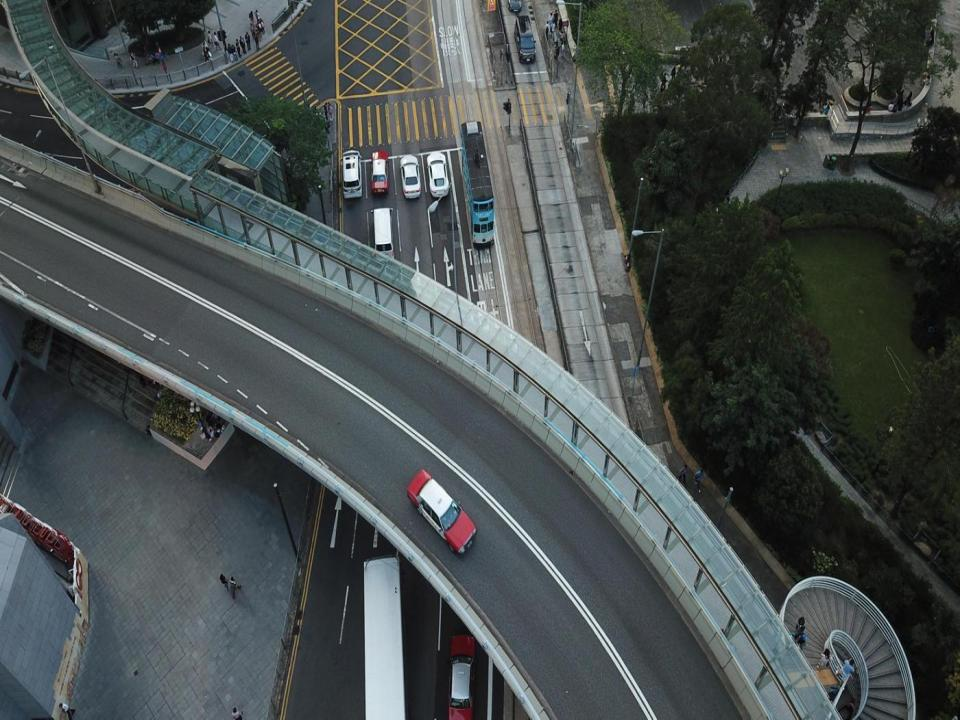bus: (363, 555, 407, 719)
car: (407, 470, 477, 557), (461, 119, 496, 250), (448, 634, 475, 719), (427, 152, 449, 197), (400, 154, 420, 200), (371, 148, 388, 194), (508, 0, 522, 12)
van: (371, 207, 394, 260), (514, 15, 536, 63), (342, 150, 364, 196)
